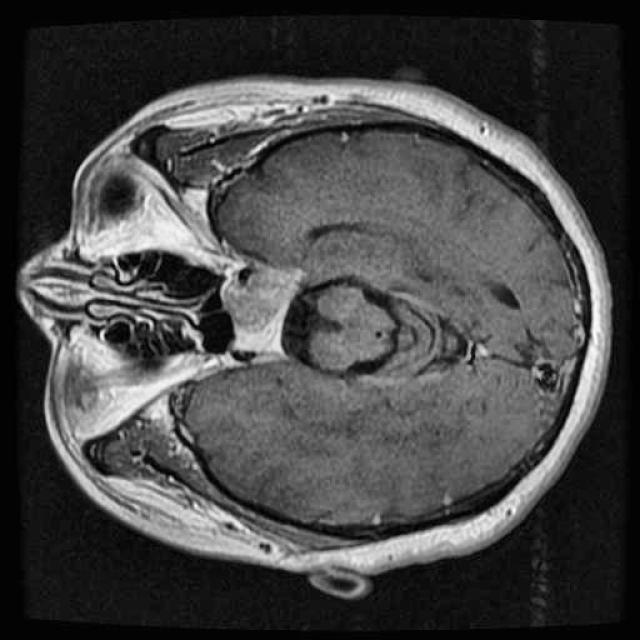Tumor: (214, 249, 305, 346)
